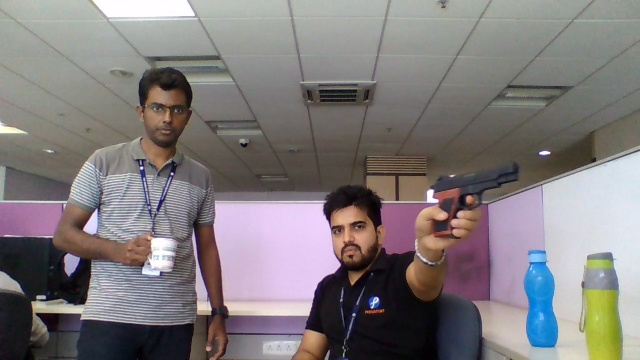gun: (431, 161, 520, 209)
